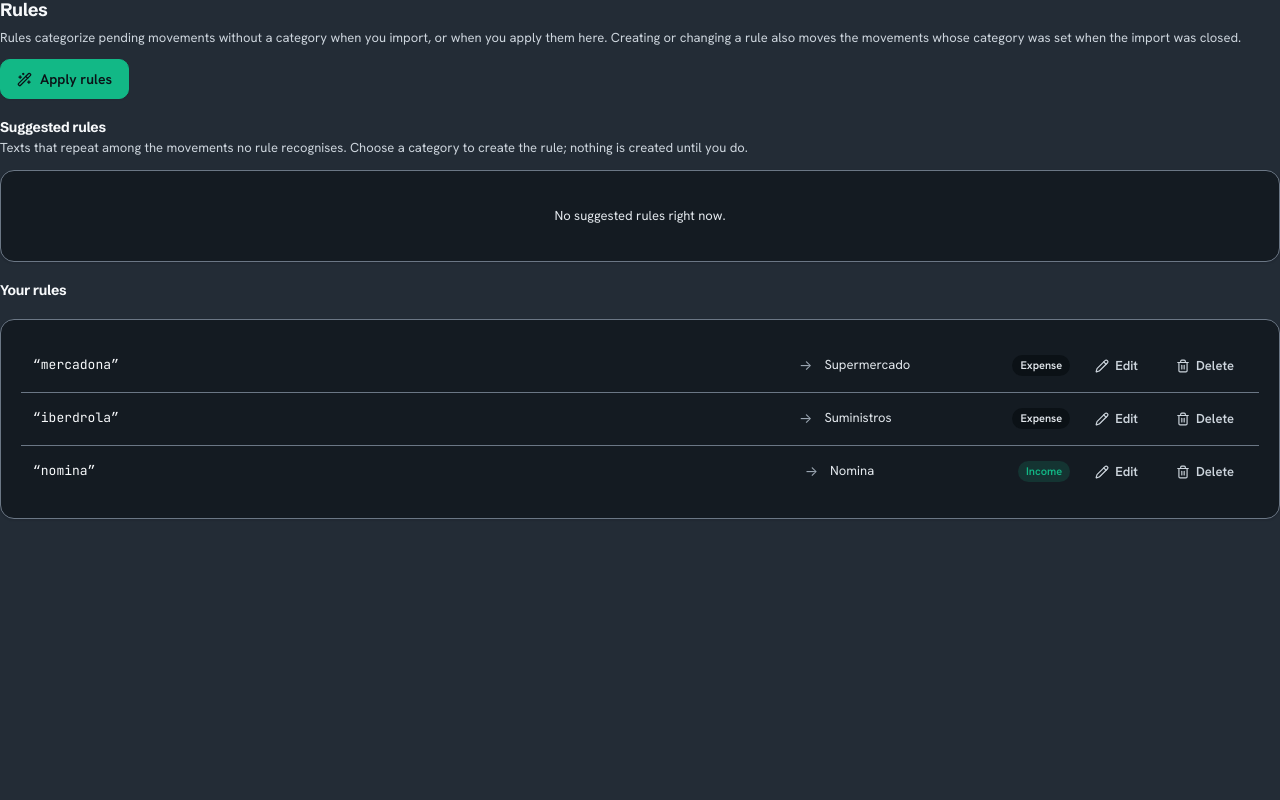
Test: RulesView (R7, R8, R9, R10) › changes a rule with a PATCH of only what changed, and no movement (R8)
Step 1. Click the button with test id "rule-edit" → (1117, 419), box [1082,403,1151,435]
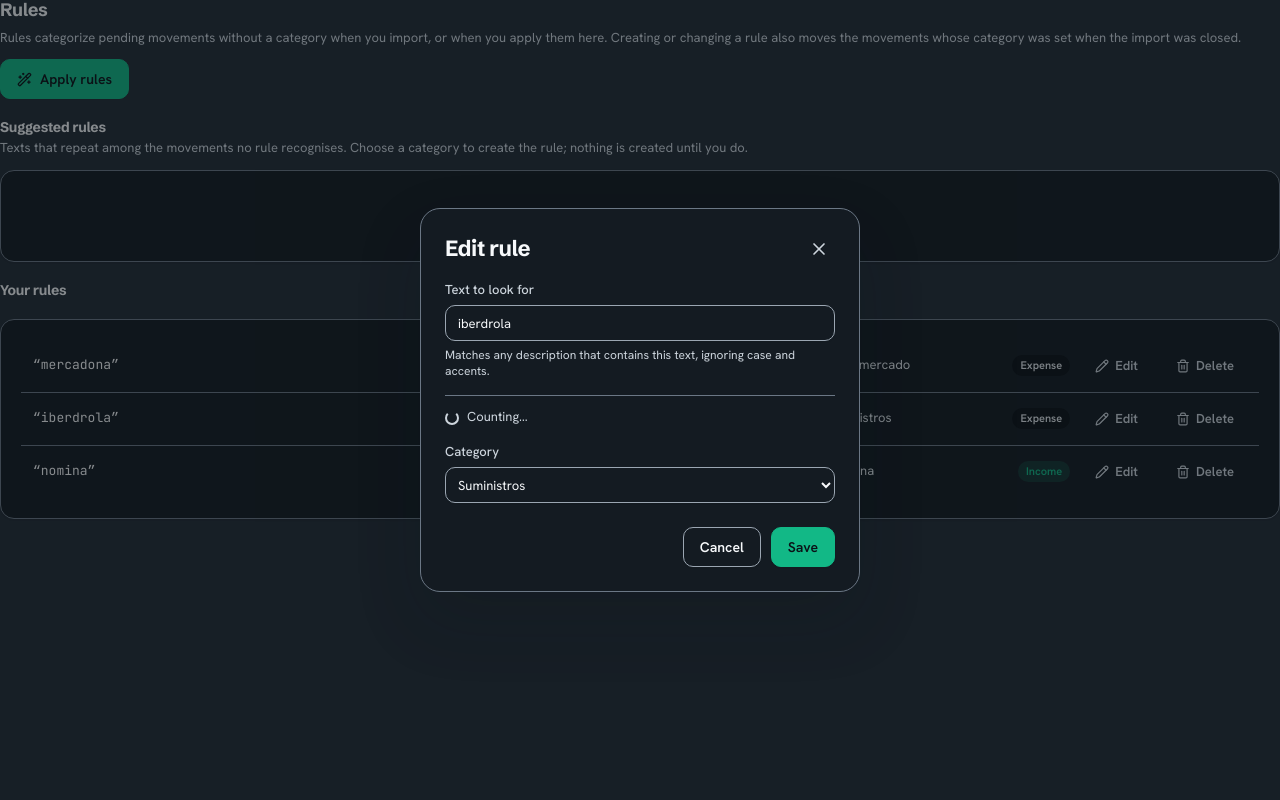
Expected: the dialog with test id "rule-dialog" is shown, [420,208,860,592]
Step 2. Select "Supermercado" in the dropdown labelled "Category" → (640, 485), box [445,467,835,503]
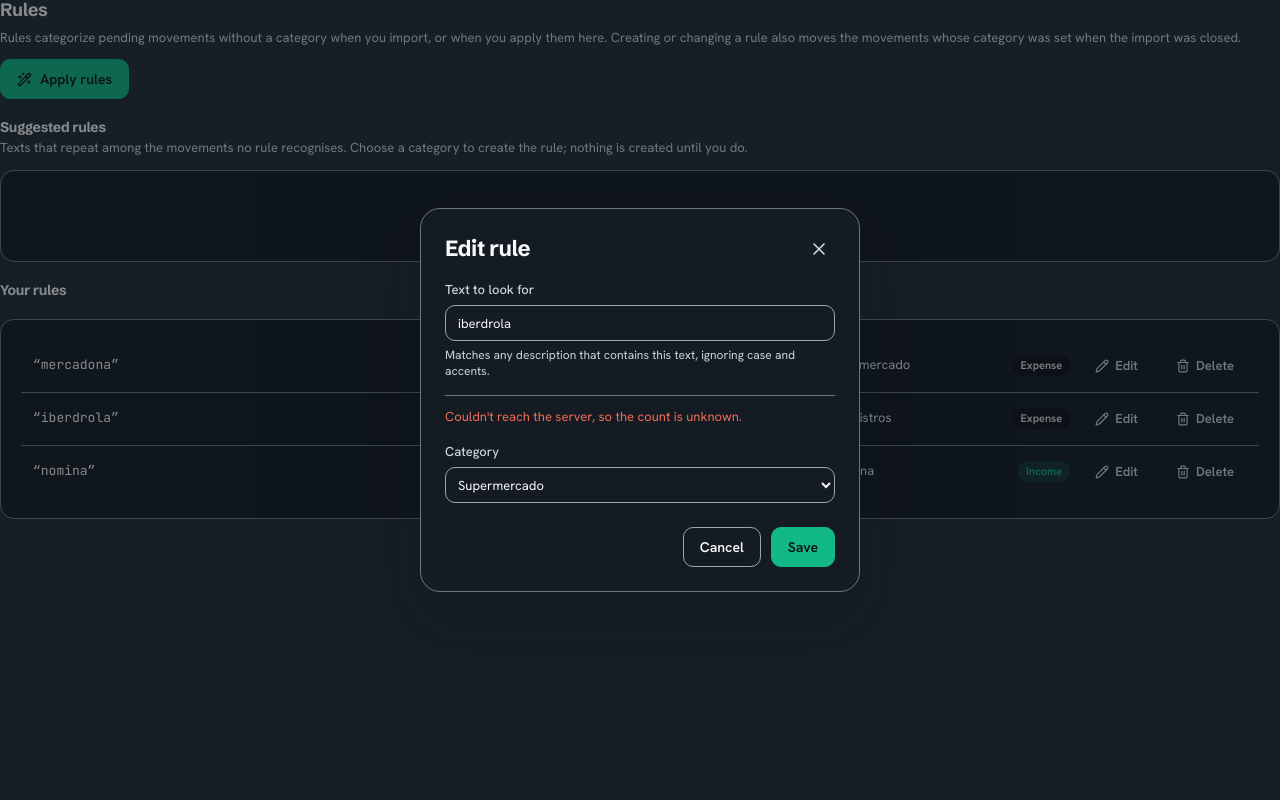
Step 3. Click the button with test id "rule-save" → (803, 547), box [771,527,835,567]
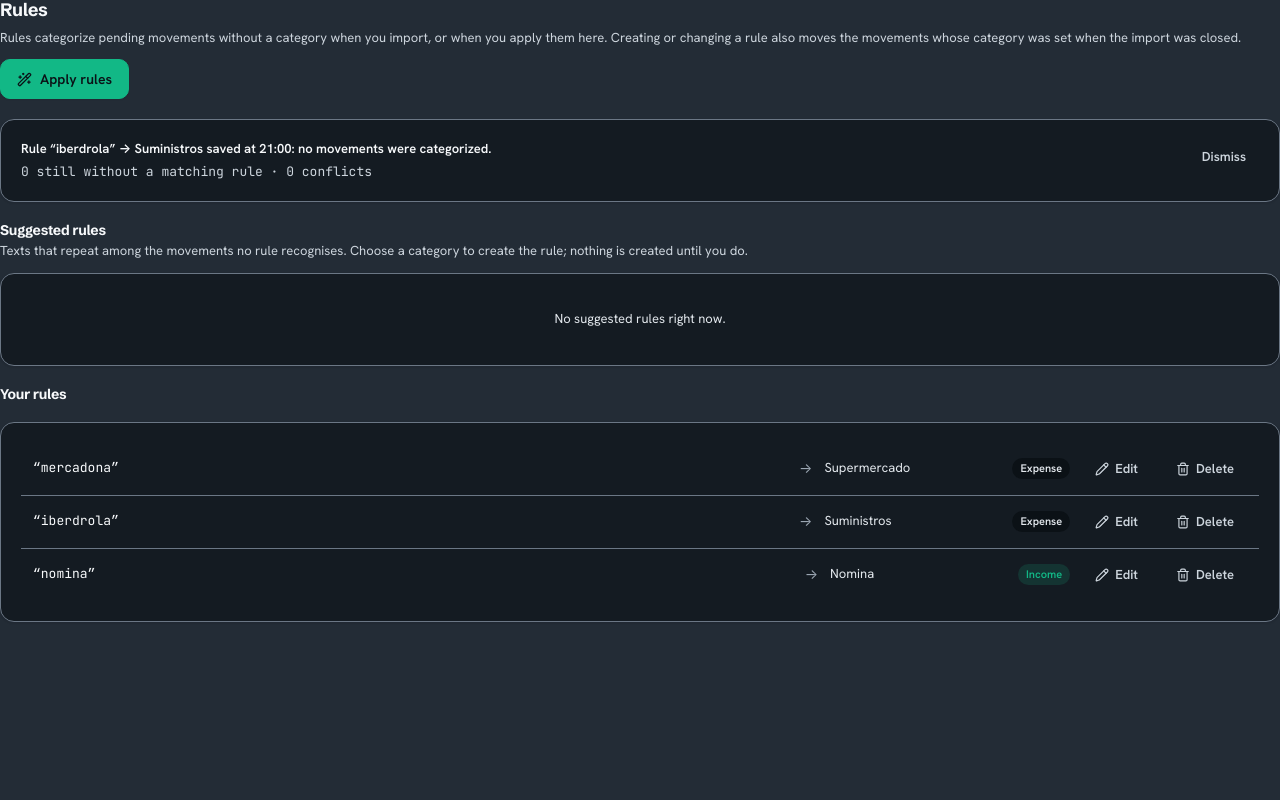
Expected: the dialog with test id "rule-dialog" is gone
